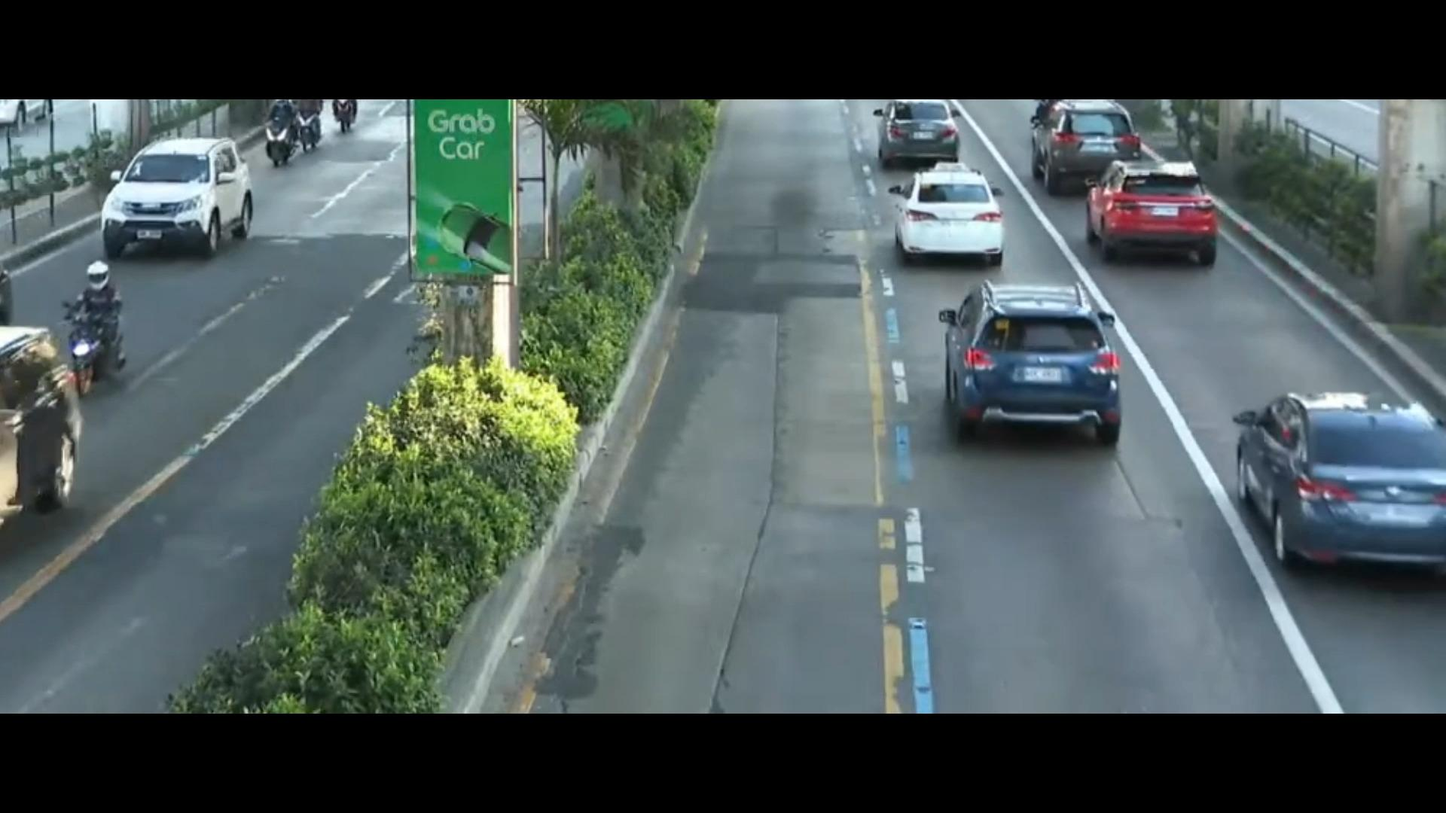Motorcycle: (61, 259, 149, 390), (248, 93, 302, 167), (290, 101, 332, 149), (330, 96, 372, 129)
SUV: (929, 269, 1158, 464), (93, 129, 262, 266), (1080, 149, 1243, 278), (1029, 96, 1155, 208)
Sedan: (1206, 379, 1446, 609), (881, 156, 1017, 264), (879, 103, 967, 179)
